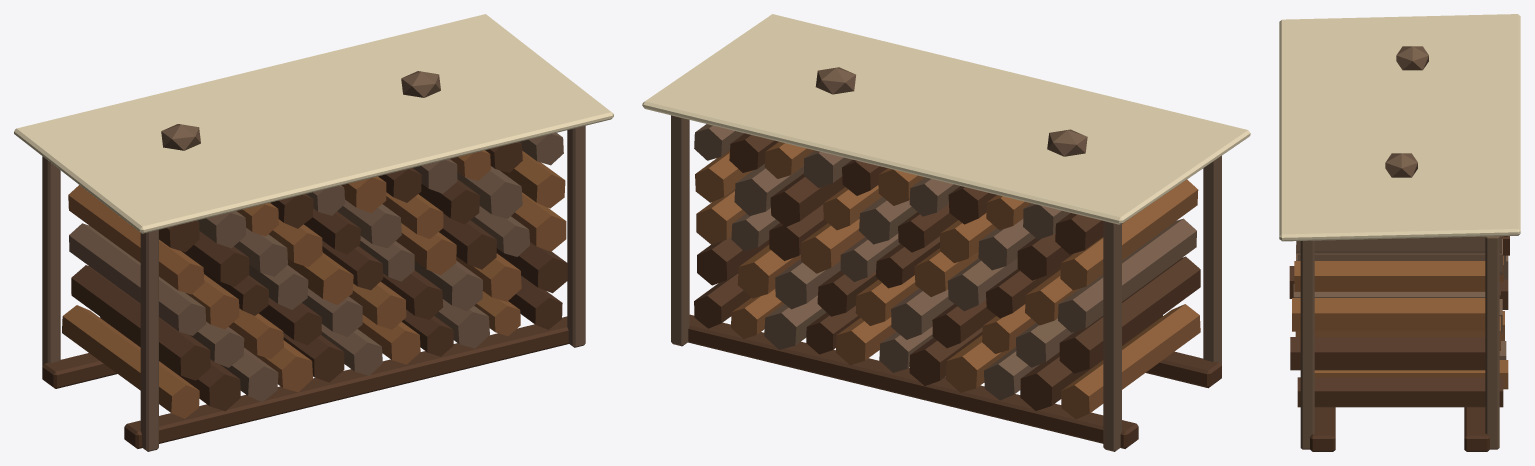
The model's file is prop_firewood_stack_a.glb.
3 views of the same model, side by side, from view 1: azimuth 30°, elevation 25°; view 2: azimuth 150°, elevation 25°; view 3: azimuth 270°, elevation 25° (orthographic). The views are drawn at different scales.
Parts seen in each view (by area): view 1: woodpile_tarp, woodpile_log_00_02, woodpile_log_00_01, woodpile_log_00_00; view 2: woodpile_tarp, woodpile_log_00_01, woodpile_log_00_02, woodpile_log_00_00; view 3: woodpile_tarp, woodpile_log_00_01, woodpile_log_00_00, woodpile_log_00_02.
Part boxes in pixels (x1,y1,x2,y2): woodpile_tarp: [14, 14, 613, 233]; woodpile_log_00_02: [42, 71, 585, 451]; woodpile_log_00_01: [42, 142, 568, 448]; woodpile_log_00_00: [62, 150, 566, 418]; woodpile_tarp: [642, 14, 1250, 224]; woodpile_log_00_01: [688, 133, 1221, 448]; woodpile_log_00_02: [671, 67, 1221, 451]; woodpile_log_00_00: [695, 141, 1200, 419]; woodpile_tarp: [1279, 14, 1520, 241]; woodpile_log_00_01: [1289, 236, 1509, 451]; woodpile_log_00_00: [1292, 255, 1508, 389]; woodpile_log_00_02: [1293, 46, 1508, 449].
Size of the model in its own units: 2 by 1.06 by 0.94.
